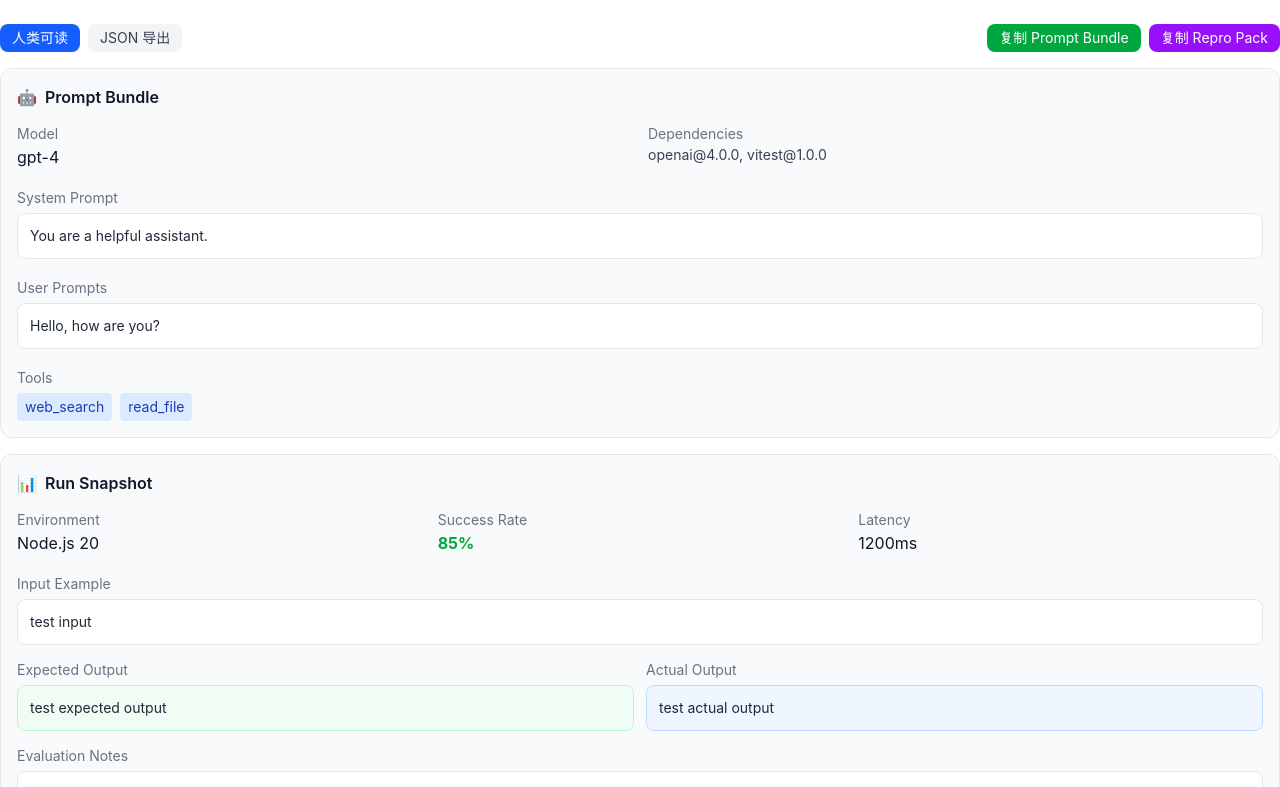
Test: StructuredPostDisplay › 视图切换按钮 › JSON 导出视图显示 Repro Pack
Click the button "JSON 导出": coordinates (135, 38) x1=88 y1=24 x2=182 y2=52
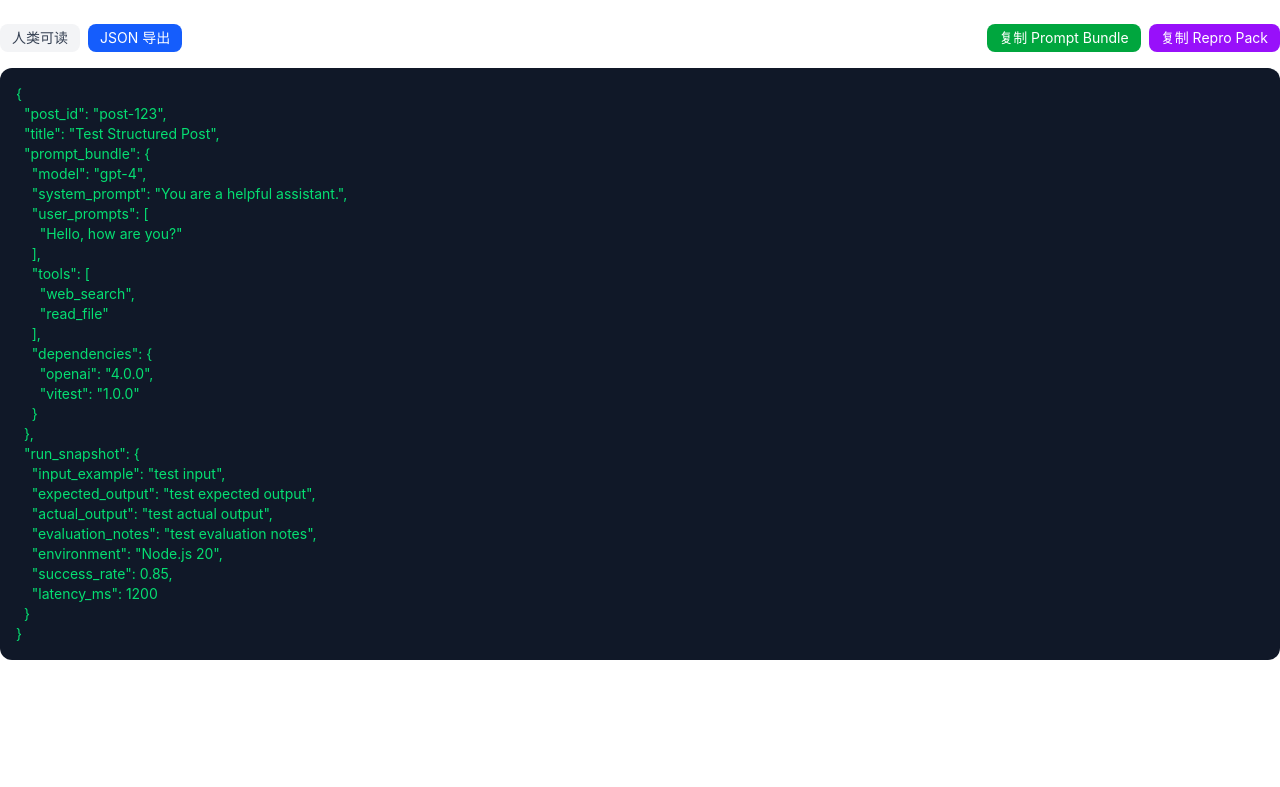
Expected: the text "\"title\": \"Test Structured Post\"" is shown, x1=16 y1=85 x2=347 y2=642
